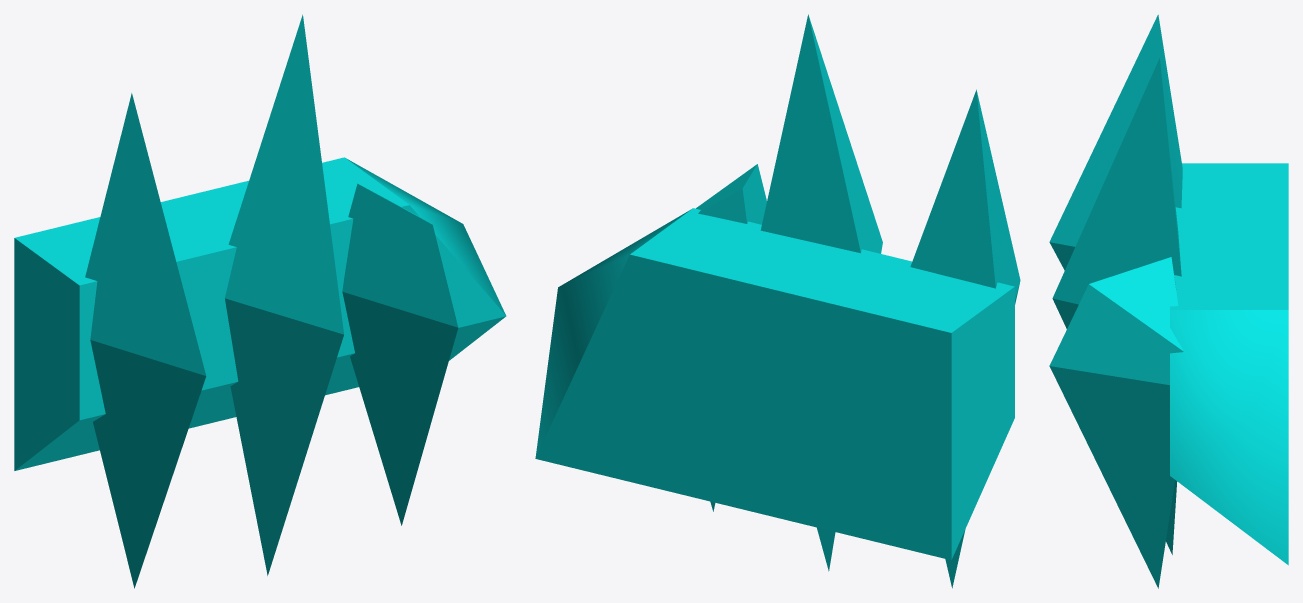
The model's file is SM_Bld_Battlements_Damaged_03_Collision.fbx.
3 views of the same model, side by side, from view 1: azimuth 30°, elevation 25°; view 2: azimuth 150°, elevation 25°; view 3: azimuth 270°, elevation 25° (orthographic). The views are drawn at different scales.
Visible parts, largest first — view 1: SM_Bld_Battlements_Damaged_03_Collision; view 2: SM_Bld_Battlements_Damaged_03_Collision; view 3: SM_Bld_Battlements_Damaged_03_Collision.
Boxes of the visible parts, <box> form: SM_Bld_Battlements_Damaged_03_Collision: <box>14,14,506,588</box>; SM_Bld_Battlements_Damaged_03_Collision: <box>535,14,1020,588</box>; SM_Bld_Battlements_Damaged_03_Collision: <box>1049,14,1288,588</box>.
Size of the model in its own units: 342 by 429 by 182.
